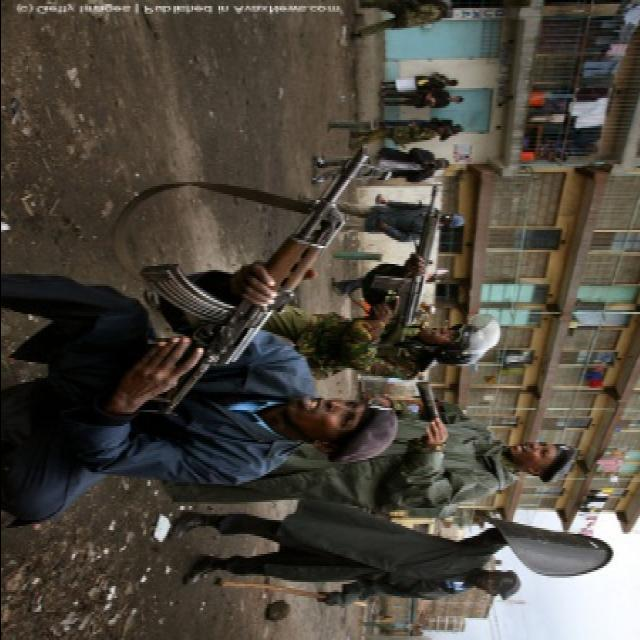rifle: (123, 145, 381, 427), (377, 177, 459, 385)
